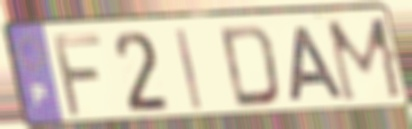2: (114, 29, 174, 116)
A: (288, 24, 348, 104)
D: (217, 22, 283, 110)
F: (49, 31, 105, 121)
I: (172, 26, 206, 113)
M: (323, 15, 408, 107)
